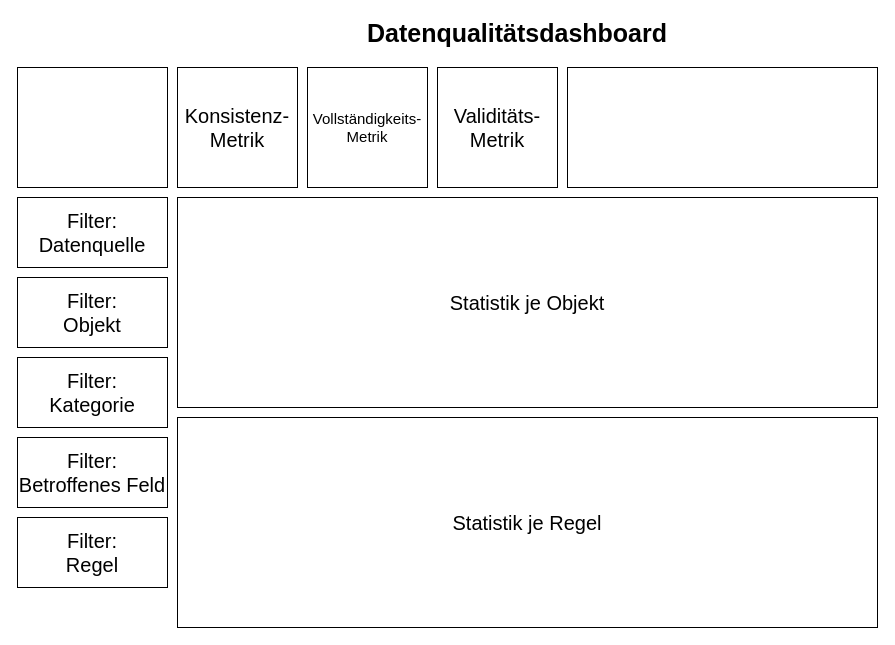
This 895x645 diagram has some shape labels left out. Each missing label, with the centre of its shape:
"Gesamt-qualität?" belongs at point 92,127.
"Platz für weitere Metriken" belongs at point 722,127.
